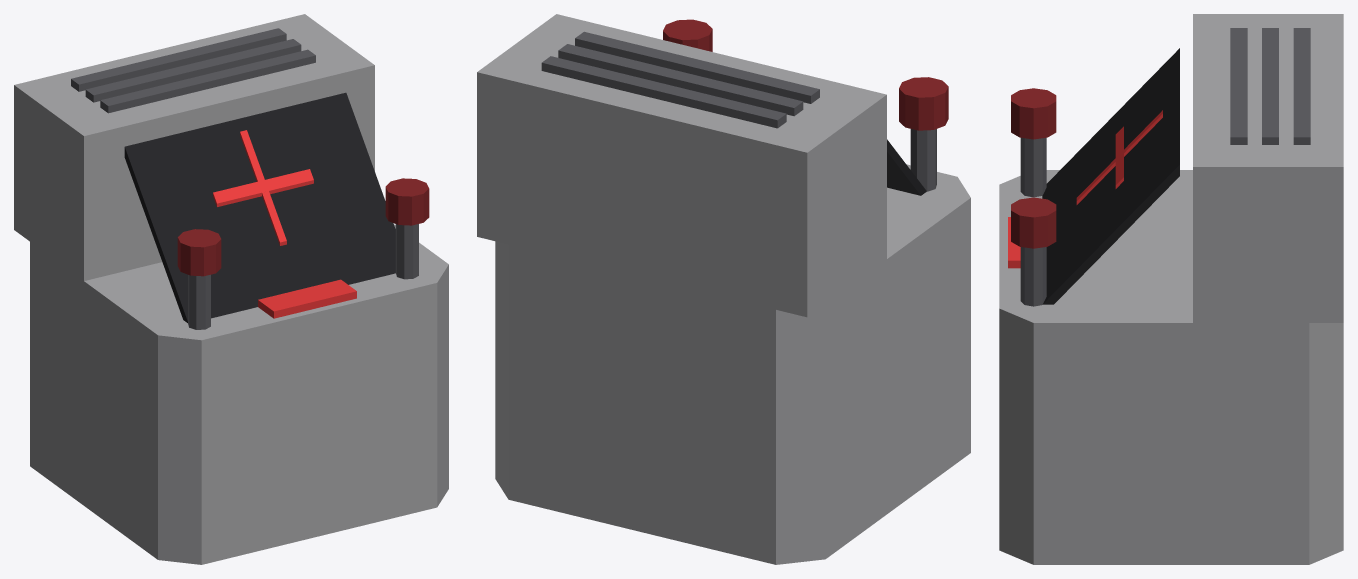
The model's file is vge_targeting_terminal.obj.
The picture shows the model from 3 angles, left to right: view 1: azimuth 30°, elevation 25°; view 2: azimuth 150°, elevation 25°; view 3: azimuth 270°, elevation 25°; orthographic projection. The views are drawn at different scales.
Visible parts, largest first — view 1: vge_targeting_terminal_0, vge_targeting_terminal_2, vge_targeting_terminal_1, vge_targeting_terminal_5, vge_targeting_terminal_6, vge_targeting_terminal_7, vge_targeting_terminal_12, vge_targeting_terminal_11, vge_targeting_terminal_9, vge_targeting_terminal_3, vge_targeting_terminal_10, vge_targeting_terminal_8 (+1 smaller); view 2: vge_targeting_terminal_0, vge_targeting_terminal_1, vge_targeting_terminal_7, vge_targeting_terminal_6, vge_targeting_terminal_5, vge_targeting_terminal_9, vge_targeting_terminal_8, vge_targeting_terminal_11, vge_targeting_terminal_2; view 3: vge_targeting_terminal_0, vge_targeting_terminal_1, vge_targeting_terminal_2, vge_targeting_terminal_11, vge_targeting_terminal_9, vge_targeting_terminal_5, vge_targeting_terminal_7, vge_targeting_terminal_6, vge_targeting_terminal_10, vge_targeting_terminal_8, vge_targeting_terminal_4, vge_targeting_terminal_3.
Part boxes in pixels (x1,y1,x2,y2): vge_targeting_terminal_0: (30, 224, 448, 564); vge_targeting_terminal_2: (124, 92, 395, 322); vge_targeting_terminal_1: (14, 14, 374, 280); vge_targeting_terminal_5: (100, 49, 315, 113); vge_targeting_terminal_6: (85, 39, 301, 102); vge_targeting_terminal_7: (71, 28, 286, 91); vge_targeting_terminal_12: (258, 279, 356, 318); vge_targeting_terminal_11: (385, 178, 429, 225); vge_targeting_terminal_9: (177, 229, 221, 276); vge_targeting_terminal_3: (213, 169, 313, 206); vge_targeting_terminal_10: (395, 224, 418, 279); vge_targeting_terminal_8: (188, 274, 210, 329); vge_targeting_terminal_0: (495, 164, 970, 564); vge_targeting_terminal_1: (477, 14, 886, 317); vge_targeting_terminal_7: (541, 56, 786, 128); vge_targeting_terminal_6: (558, 44, 803, 116); vge_targeting_terminal_5: (575, 31, 819, 103); vge_targeting_terminal_9: (899, 77, 948, 130); vge_targeting_terminal_8: (910, 129, 936, 191); vge_targeting_terminal_11: (663, 19, 712, 51); vge_targeting_terminal_2: (887, 139, 926, 195); vge_targeting_terminal_0: (999, 170, 1343, 564); vge_targeting_terminal_1: (1193, 14, 1343, 322); vge_targeting_terminal_2: (1042, 48, 1179, 304); vge_targeting_terminal_11: (1011, 197, 1056, 248); vge_targeting_terminal_9: (1011, 88, 1056, 139); vge_targeting_terminal_5: (1230, 28, 1247, 144); vge_targeting_terminal_7: (1293, 28, 1310, 144); vge_targeting_terminal_6: (1262, 28, 1278, 144); vge_targeting_terminal_10: (1020, 247, 1046, 306); vge_targeting_terminal_8: (1020, 137, 1046, 197); vge_targeting_terminal_4: (1076, 110, 1162, 204); vge_targeting_terminal_3: (1115, 126, 1123, 188).
Size of the model in its own units: 0.84 by 1.04 by 0.8.
